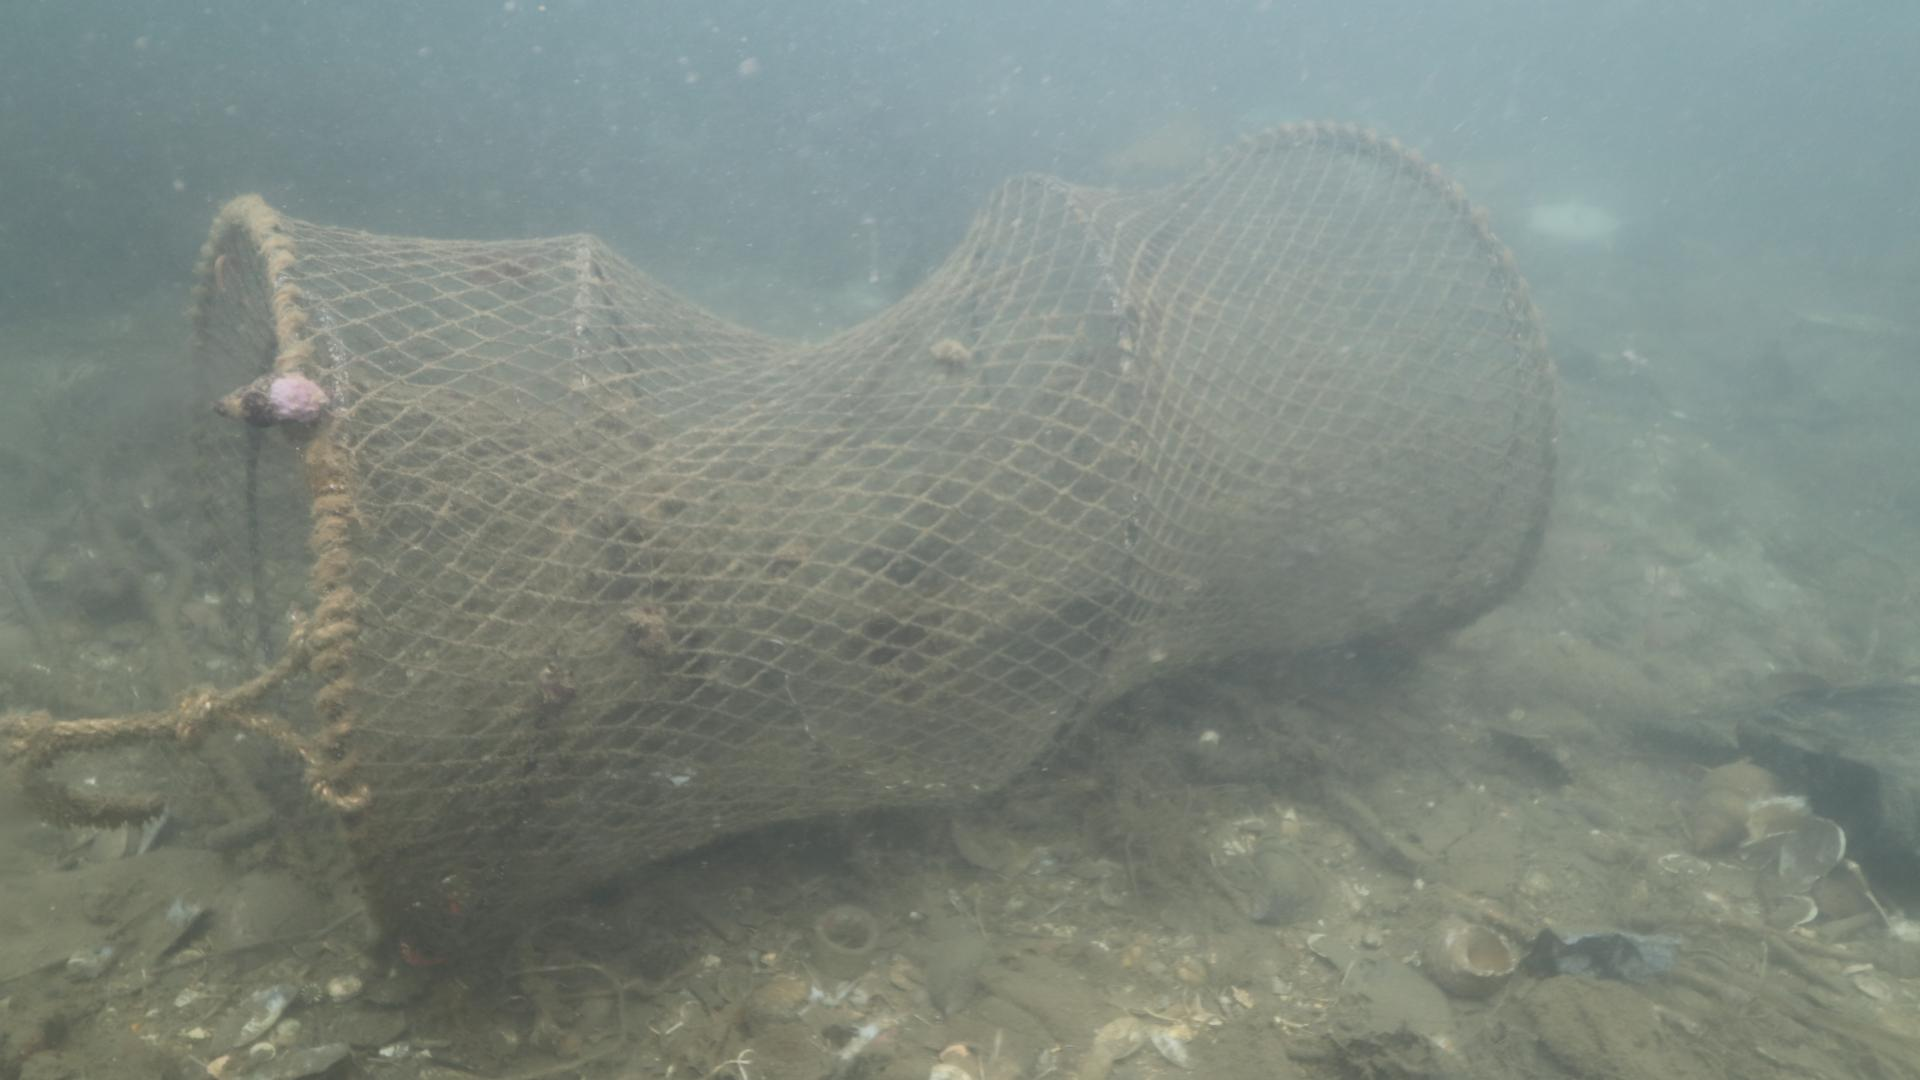bundle of ropes: (1, 608, 313, 796)
spring fish trap: (185, 117, 1561, 955)
